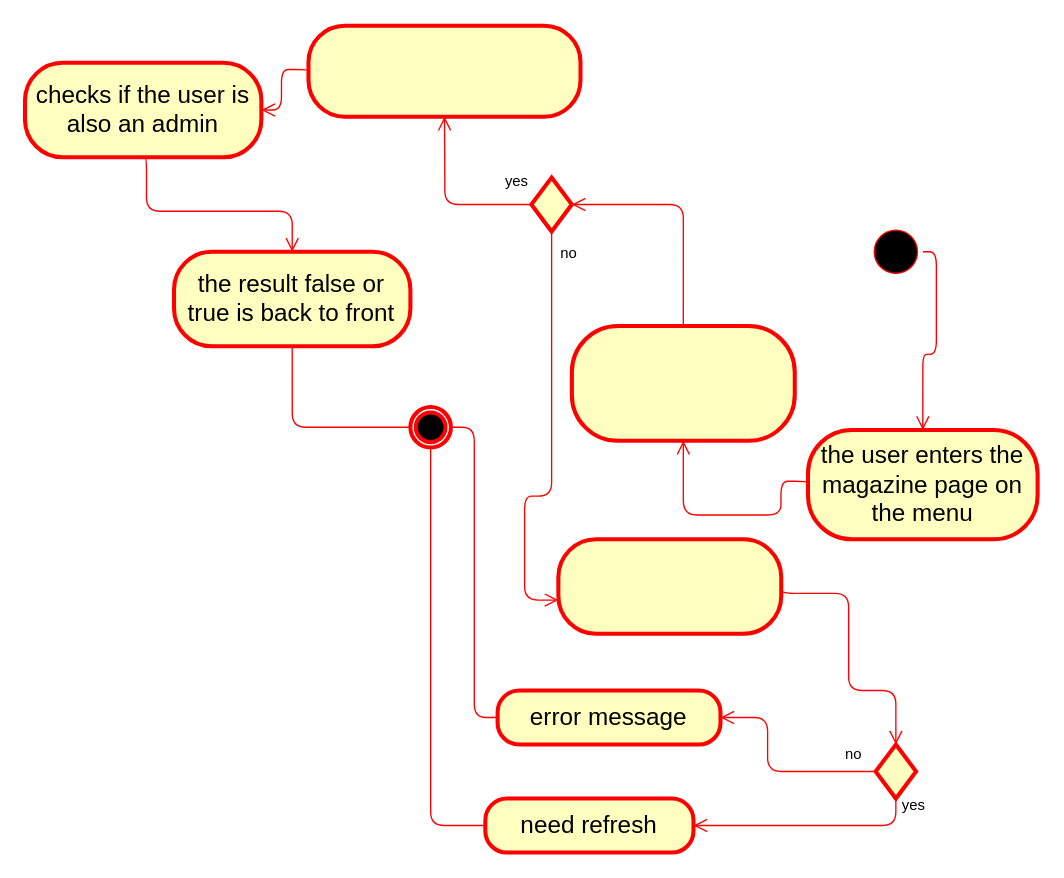
This 1064x878 diagram has some shape labels left out. The shapes that lost their labels are listed below. From the top down, each one's centre as x and y in pixels, then its label:
the point at 444,70: the system finds the news that are published
the point at 682,382: checks if the credentials of user exists or are valid
the point at 669,586: check if the access token is expired
